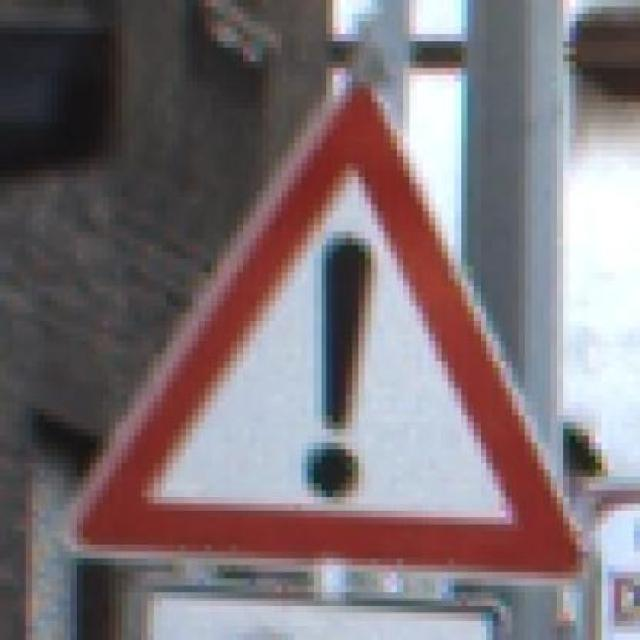Attention Please-: (38, 75, 608, 599)
